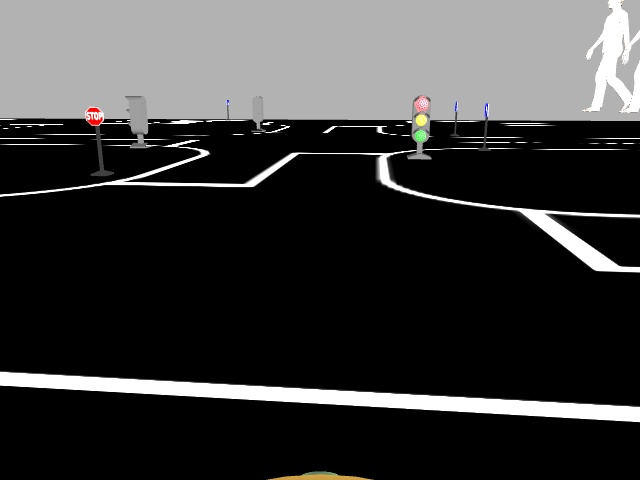Stop: (83, 106, 103, 126)
TrafficLight: (409, 93, 433, 143)
